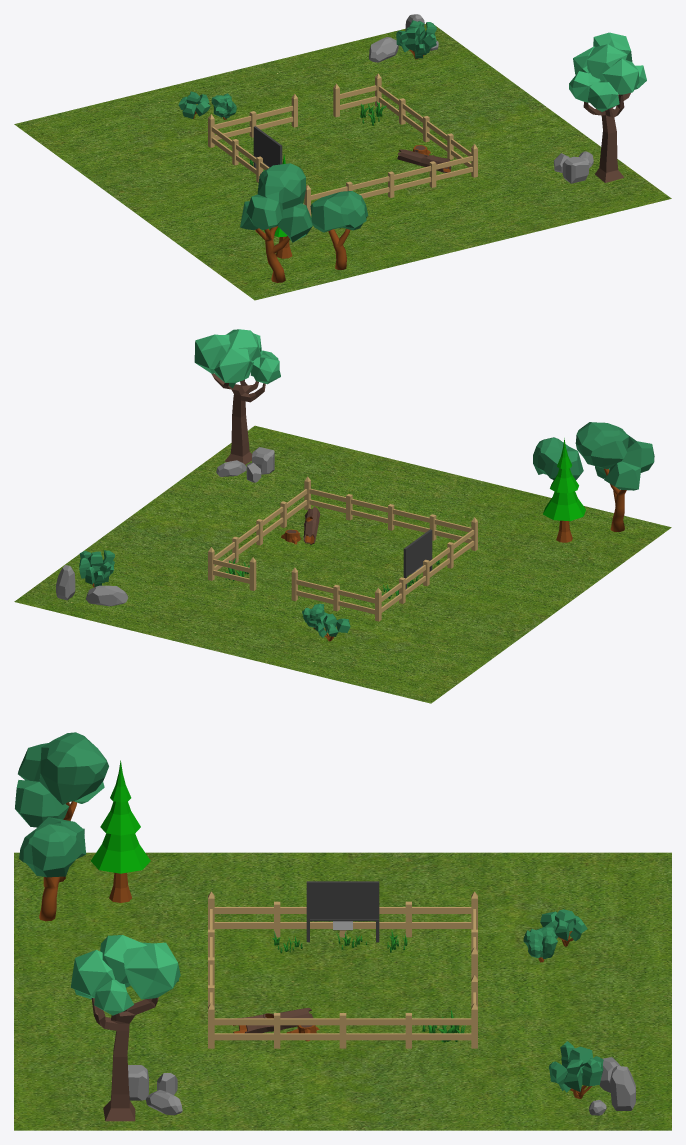
File: region-0.glb
The picture shows the model from 3 angles, top to bottom: view 1: azimuth 30°, elevation 25°; view 2: azimuth 150°, elevation 25°; view 3: azimuth 270°, elevation 25°; orthographic projection. The views are drawn at different scales.
Visible parts, largest first — view 1: base, low-poly-tree-5, deciduous-tree-2, deciduous-tree-1, fence-mid-piece-x3.003, fence-mid-piece-x3.002, bush-1, info-board-assembly-large, fence-mid-piece-x3.001, bush-2, rock-6, log-1 (+7 smaller); view 2: base, low-poly-tree-5, deciduous-tree-2, spruce-tree-1, fence-mid-piece-x3.003, deciduous-tree-1, fence-mid-piece-x3.001, fence-mid-piece-x3.002, bush-1, info-board-assembly-large, rock-4.001, bush-2 (+3 smaller); view 3: base, low-poly-tree-5, deciduous-tree-2, deciduous-tree-1, fence-mid-piece-x3.002, spruce-tree-1, info-board-assembly-large, fence-mid-piece-x3.001, bush-1, bush-2, rock-2, bush-3 (+7 smaller).
Part boxes in pixels (x1,y1,x2,y2): base: (14, 24, 671, 300); low-poly-tree-5: (569, 32, 646, 182); deciduous-tree-2: (240, 163, 312, 282); deciduous-tree-1: (310, 191, 368, 269); fence-mid-piece-x3.003: (328, 160, 454, 198); fence-mid-piece-x3.002: (389, 94, 462, 159); bush-1: (396, 20, 436, 59); info-board-assembly-large: (253, 126, 282, 168); fence-mid-piece-x3.001: (222, 134, 269, 182); bush-2: (178, 91, 210, 118); rock-6: (562, 156, 588, 183); log-1: (397, 149, 451, 172); base: (14, 425, 671, 703); low-poly-tree-5: (194, 329, 280, 464); deciduous-tree-2: (575, 422, 654, 531); spruce-tree-1: (543, 438, 585, 542); fence-mid-piece-x3.003: (328, 493, 453, 540); deciduous-tree-1: (533, 437, 583, 480); fence-mid-piece-x3.001: (390, 537, 463, 605); fence-mid-piece-x3.002: (223, 497, 296, 563); bush-1: (79, 550, 114, 587); info-board-assembly-large: (403, 529, 432, 589); rock-4.001: (86, 585, 127, 606); bush-2: (315, 613, 350, 641); base: (14, 852, 671, 1130); low-poly-tree-5: (70, 935, 180, 1121); deciduous-tree-2: (15, 732, 108, 882); deciduous-tree-1: (19, 817, 85, 921); fence-mid-piece-x3.002: (244, 1013, 441, 1048); spruce-tree-1: (91, 760, 150, 902); info-board-assembly-large: (306, 881, 379, 942); fence-mid-piece-x3.001: (244, 901, 441, 937); bush-1: (549, 1041, 603, 1098); bush-2: (540, 909, 587, 946); rock-2: (610, 1065, 635, 1110); bush-3: (523, 926, 557, 962).
Size of the model in its own units: 20.38 by 6.13 by 20.
Materials: 34 (1 with a texture image).
